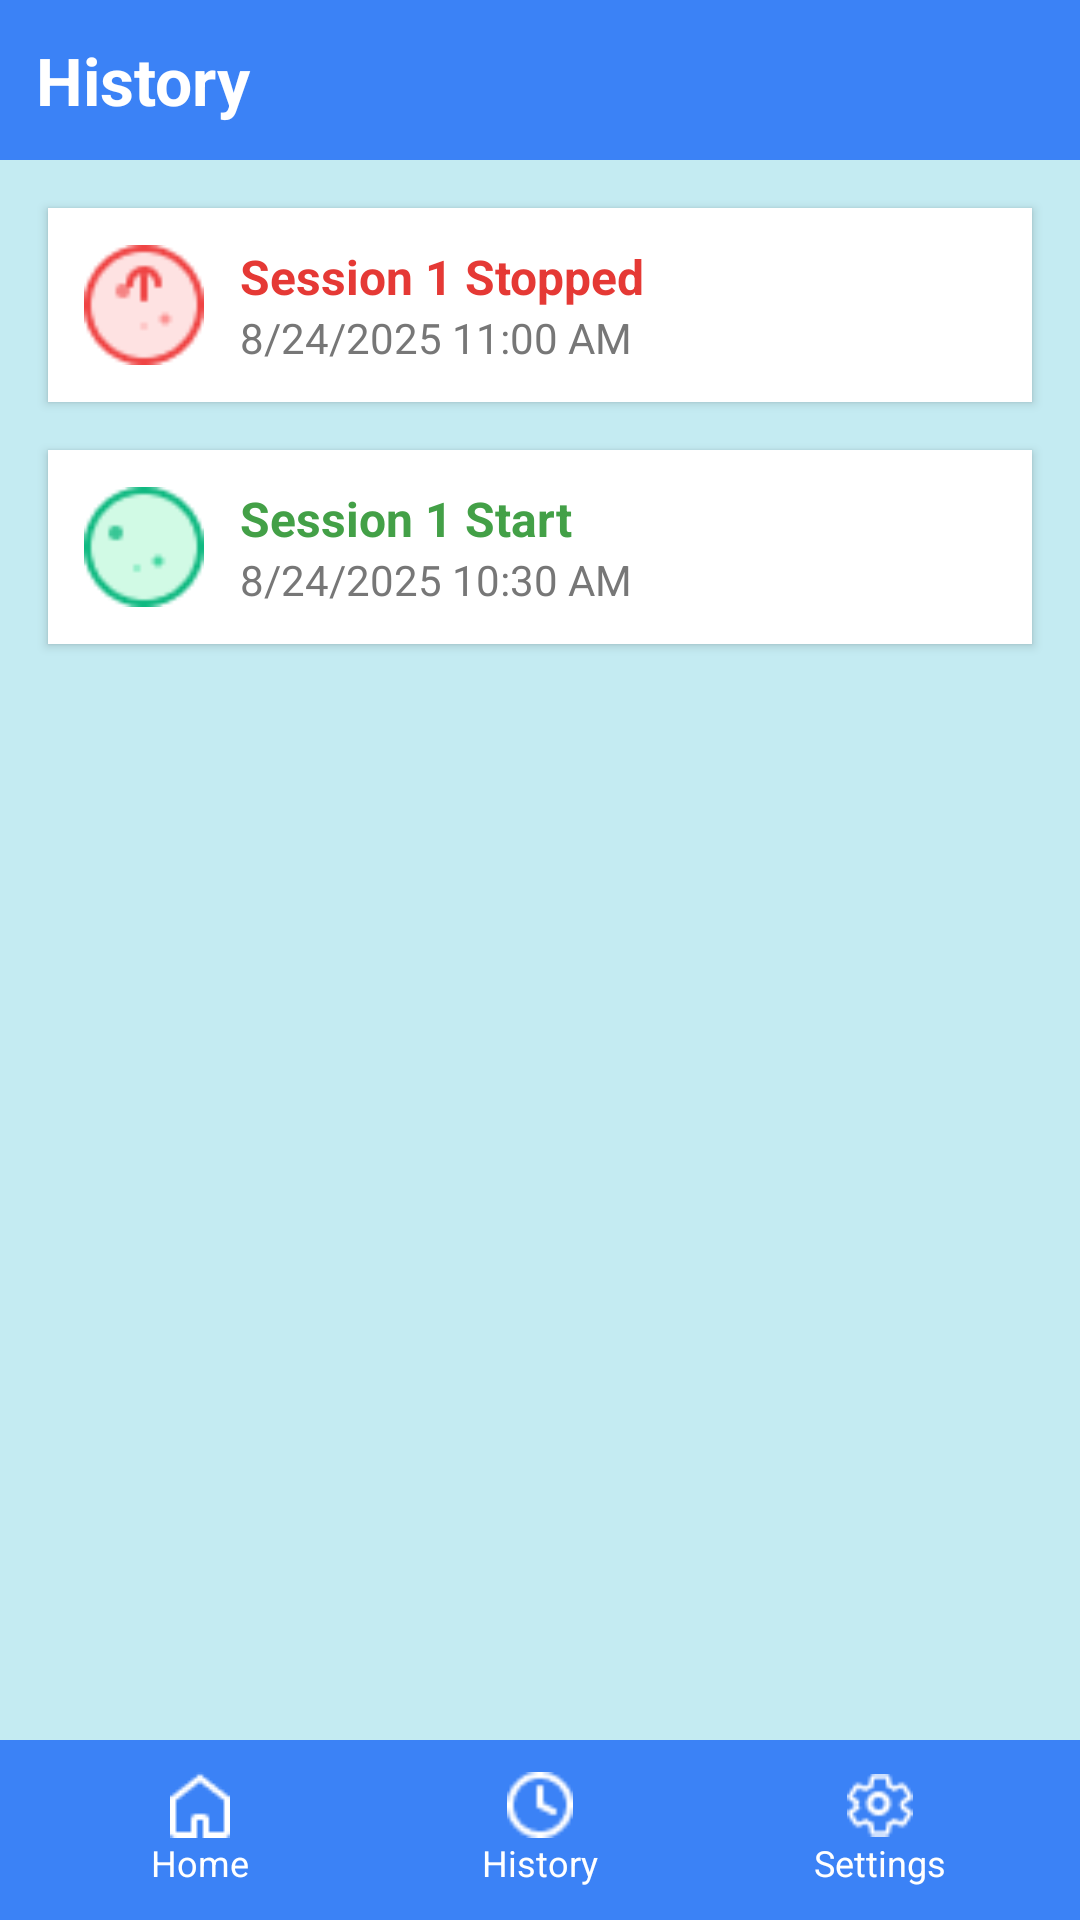

Where to tap for icons on this 1080px×1920px app screen, as (x=x, y=y):
Started: (x=144, y=547)
